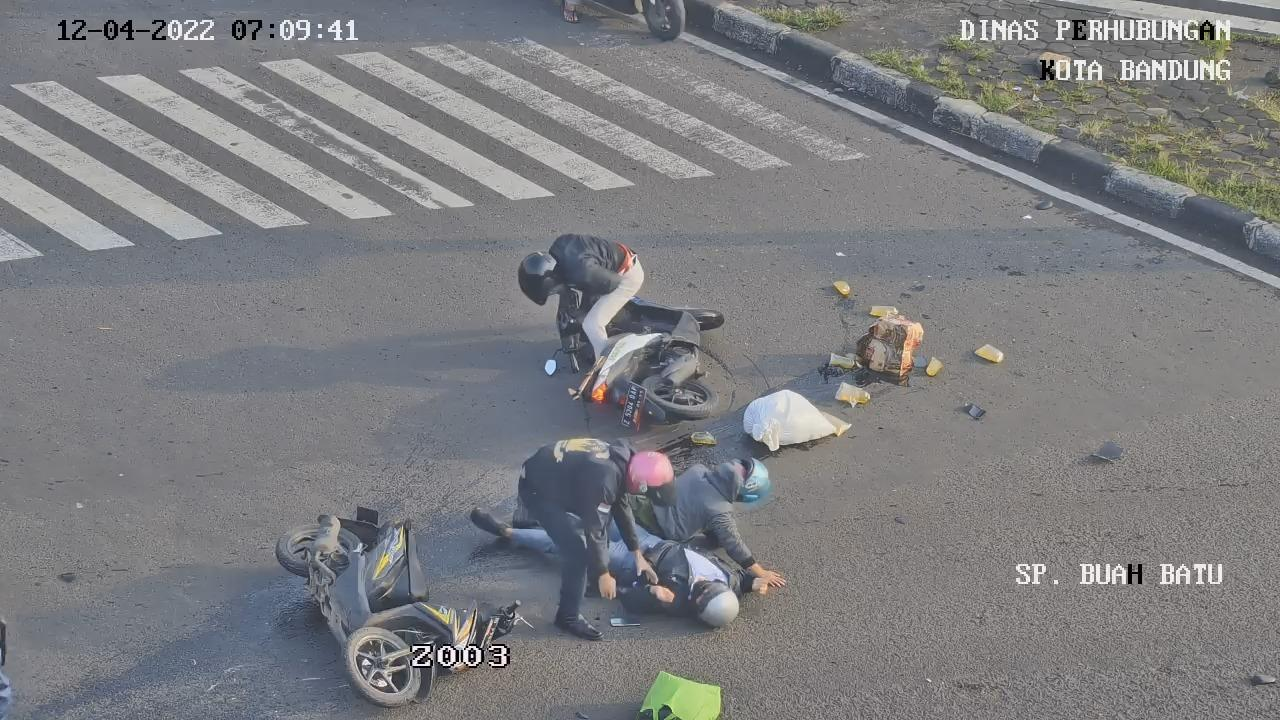accident: (449, 507, 761, 630), (497, 207, 673, 374), (635, 453, 793, 590)
